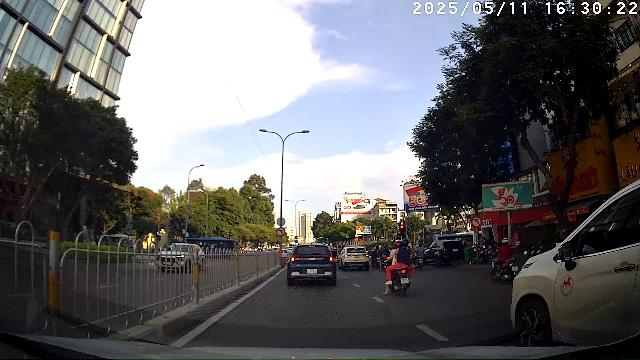123a-cam-re-trai: (472, 216, 482, 228), (276, 228, 286, 236)
